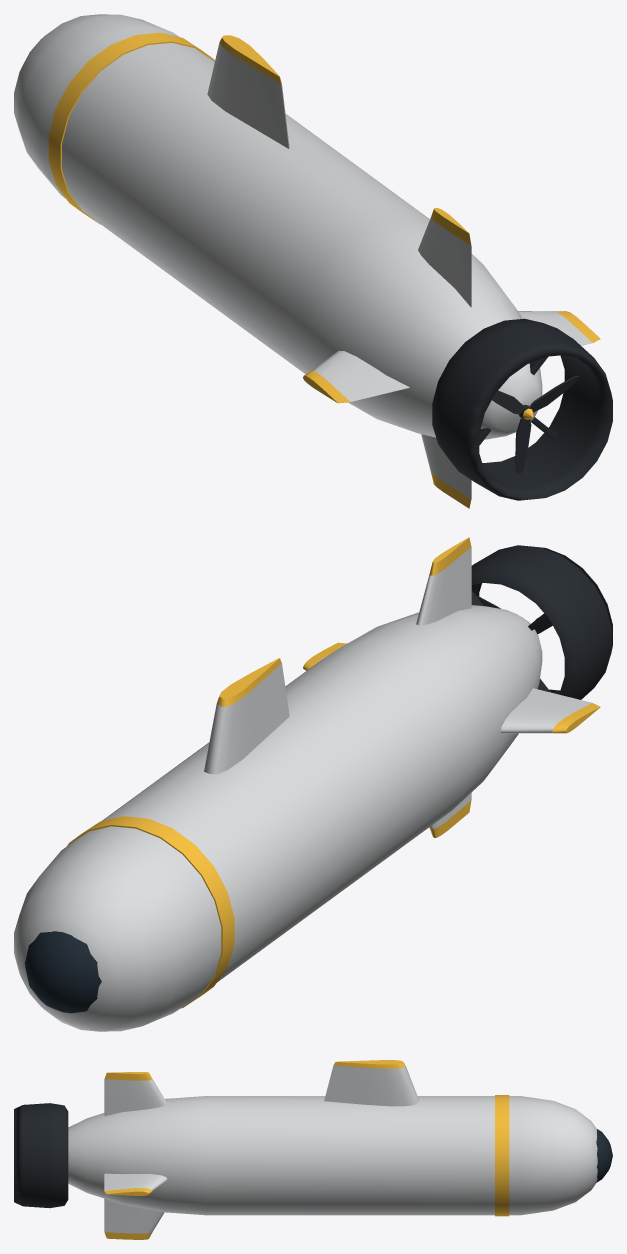
File: submarine-CS-FsFJQ.glb
The picture shows the model from 3 angles, top to bottom: view 1: azimuth 30°, elevation 25°; view 2: azimuth 150°, elevation 25°; view 3: azimuth 270°, elevation 25°; orthographic projection. The views are drawn at different scales.
Visible parts, largest first — view 1: HullBody, Dark, Body, Trim, PropellerDark; view 2: HullBody, Dark, Body, Trim, Glass; view 3: HullBody, Body, Dark, Trim, Glass.
Part boxes in pixels (x1=…): HullBody: x1=14, y1=14, x2=542, y2=439; Dark: x1=432, y1=318, x2=612, y2=500; Body: x1=207, y1=43, x2=591, y2=499; Trim: x1=48, y1=32, x2=600, y2=508; PropellerDark: x1=492, y1=375, x2=578, y2=473; HullBody: x1=14, y1=605, x2=542, y2=1031; Dark: x1=471, y1=545, x2=612, y2=699; Body: x1=204, y1=547, x2=591, y2=829; Trim: x1=67, y1=537, x2=600, y2=1008; Glass: x1=24, y1=931, x2=101, y2=1013; HullBody: x1=68, y1=1096, x2=597, y2=1215; Body: x1=104, y1=1065, x2=419, y2=1233; Dark: x1=14, y1=1103, x2=68, y2=1208; Trim: x1=104, y1=1060, x2=509, y2=1239; Glass: x1=596, y1=1129, x2=612, y2=1182.
Size of the model in its own units: 0.304 by 0.324 by 0.994.
